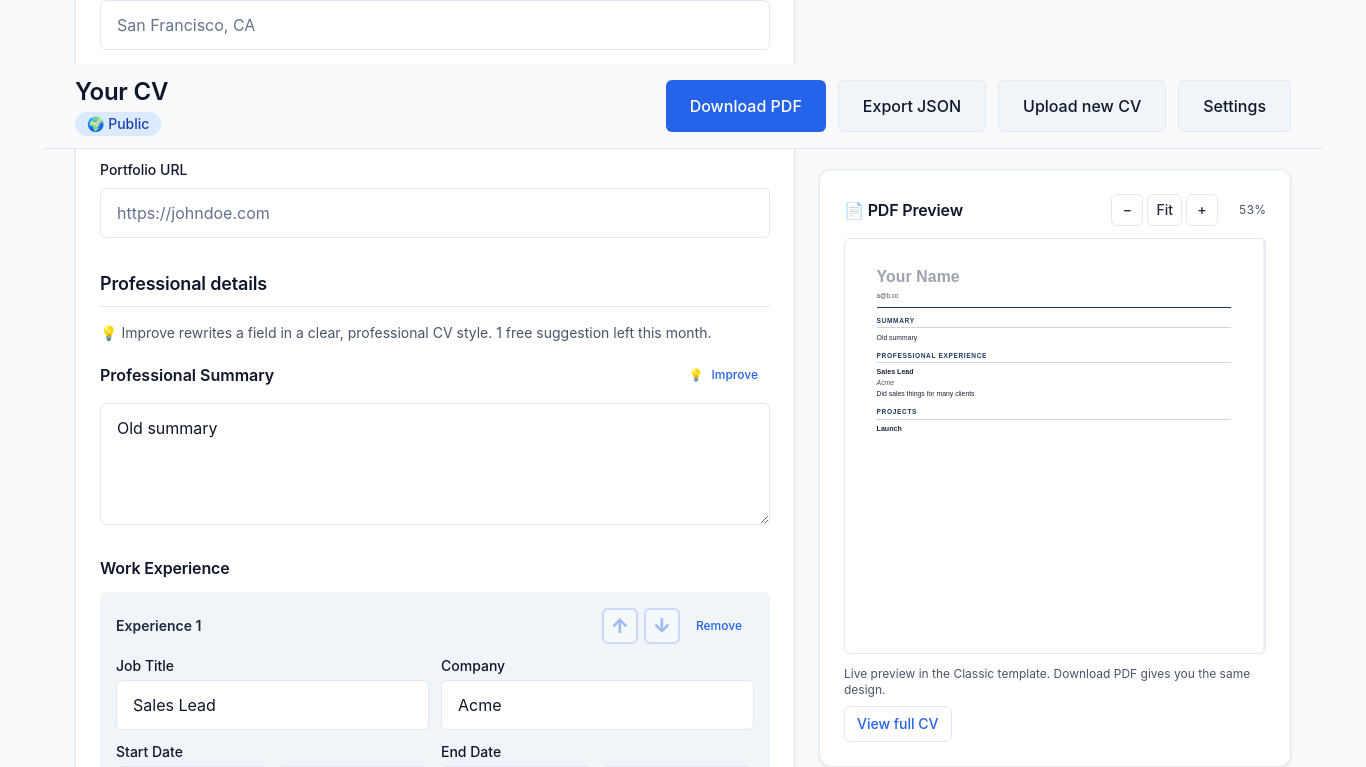
Test: 💡 headline › suggests a headline for an empty field, after saving pending edits, and fills it in
(page scrolled)
Type " More." into the text box labelled "Professional Summary" at (435, 464), box top-left (100, 403), bottom-right (770, 525)
(page scrolled)
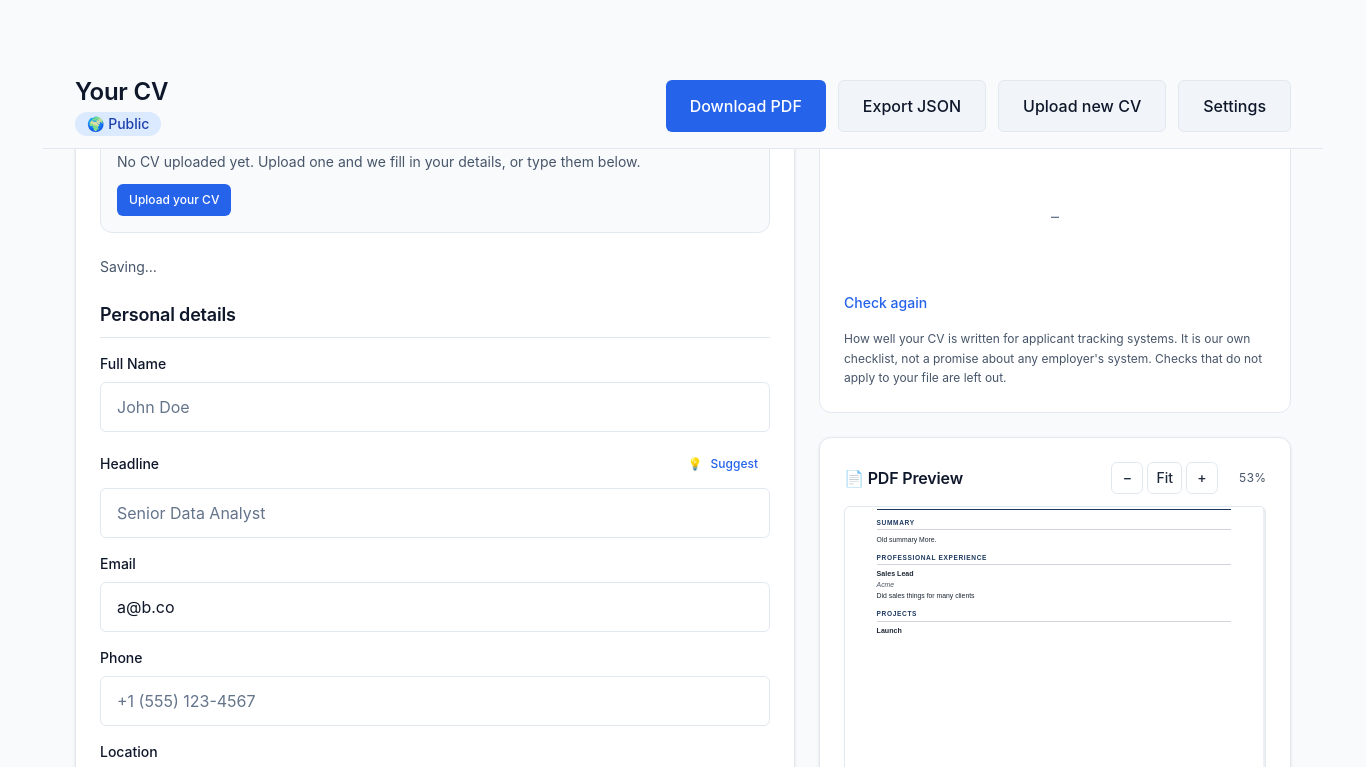
Click the button with aria-label "Suggest Headline" at (723, 464), box top-left (676, 448), bottom-right (770, 480)
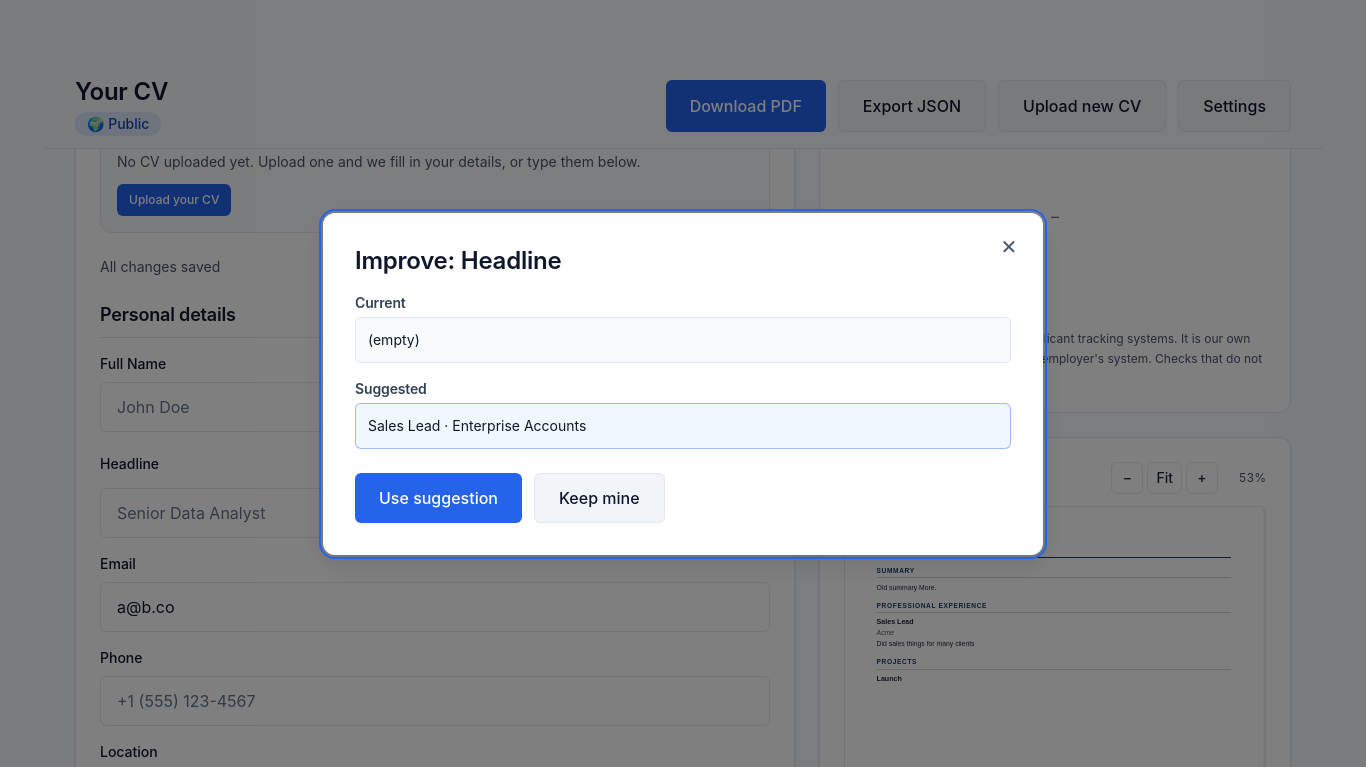
Now the element "Current" shows "(empty)", box top-left (368, 331), bottom-right (420, 348)
Click the button "Use suggestion" at (438, 498), box top-left (355, 473), bottom-right (522, 523)
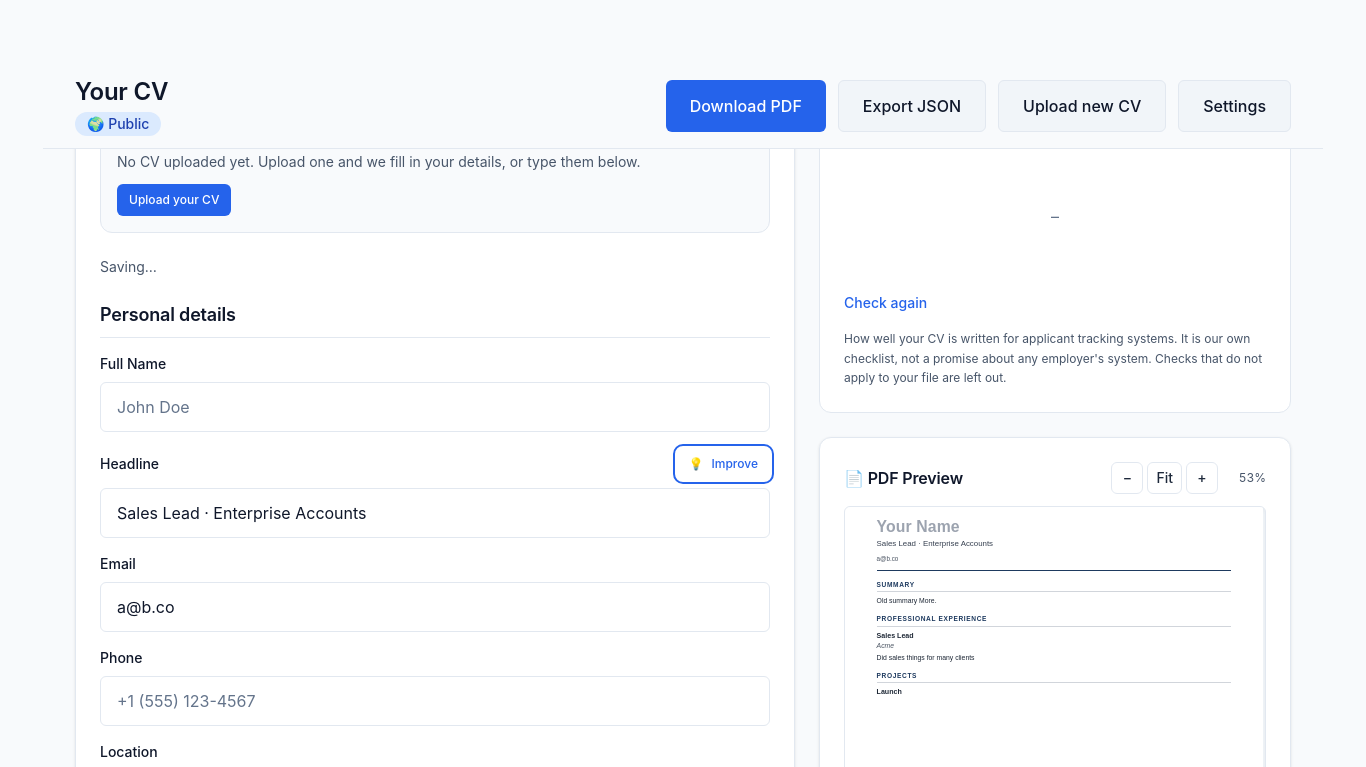
Expected: the button with aria-label "Improve Headline" is enabled, top-left (676, 448), bottom-right (770, 480)
Now the field labelled "Headline" holds "Sales Lead · Enterprise Accounts", box top-left (100, 488), bottom-right (770, 538)
